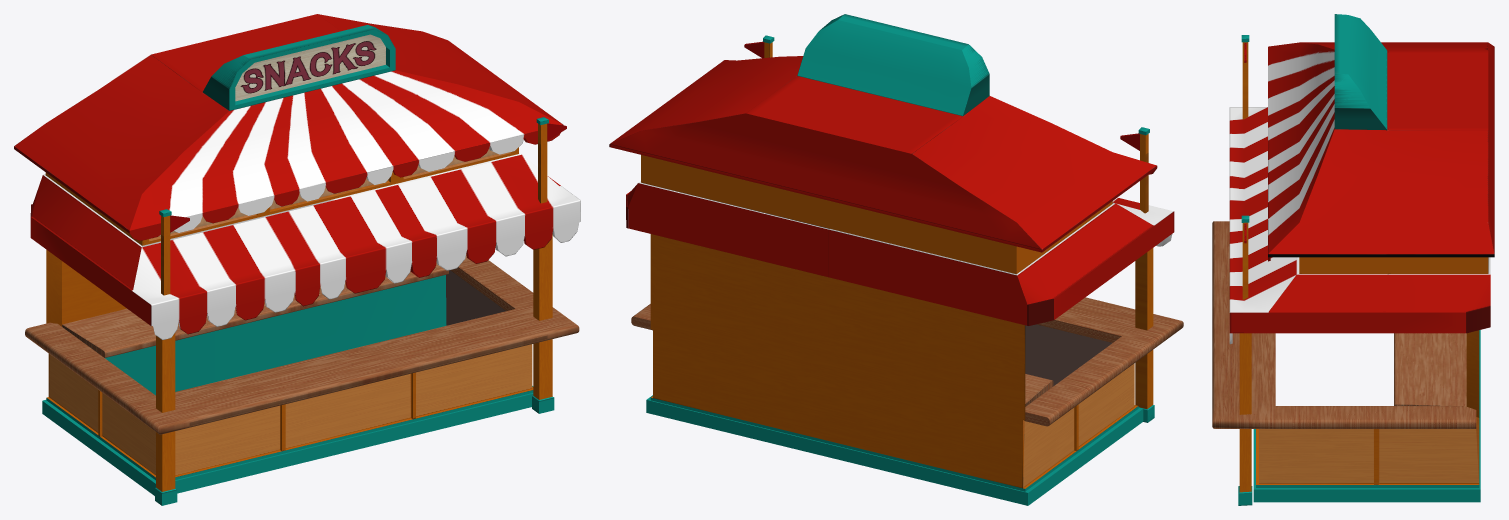
File: SnackStall.fbx
3 views of the same model, side by side, from view 1: azimuth 30°, elevation 25°; view 2: azimuth 150°, elevation 25°; view 3: azimuth 270°, elevation 25° (orthographic).
Parts seen in each view (by area): view 1: FoodStall002, Box001, CounterTop, Counter, Pole, Pole001; view 2: FoodStall002, Box001, CounterTop, Pole; view 3: FoodStall002, Box001, CounterTop, Counter, Pole001, Pole.
Boxes of the visible parts, x1,y1,x2,y2 form: FoodStall002: [14, 14, 580, 339]; Box001: [42, 249, 533, 495]; CounterTop: [25, 254, 579, 434]; Counter: [62, 261, 448, 395]; Pole: [155, 209, 189, 505]; Pole001: [532, 117, 566, 413]; FoodStall002: [609, 14, 1174, 325]; Box001: [646, 234, 1143, 505]; CounterTop: [631, 297, 1183, 426]; Pole: [1120, 127, 1154, 422]; FoodStall002: [1229, 14, 1494, 344]; Box001: [1253, 330, 1480, 502]; CounterTop: [1212, 221, 1476, 428]; Counter: [1394, 333, 1466, 406]; Pole001: [1238, 215, 1252, 505]; Pole: [1241, 35, 1249, 119].
Size of the model in its own units: 665 by 556 by 382.
